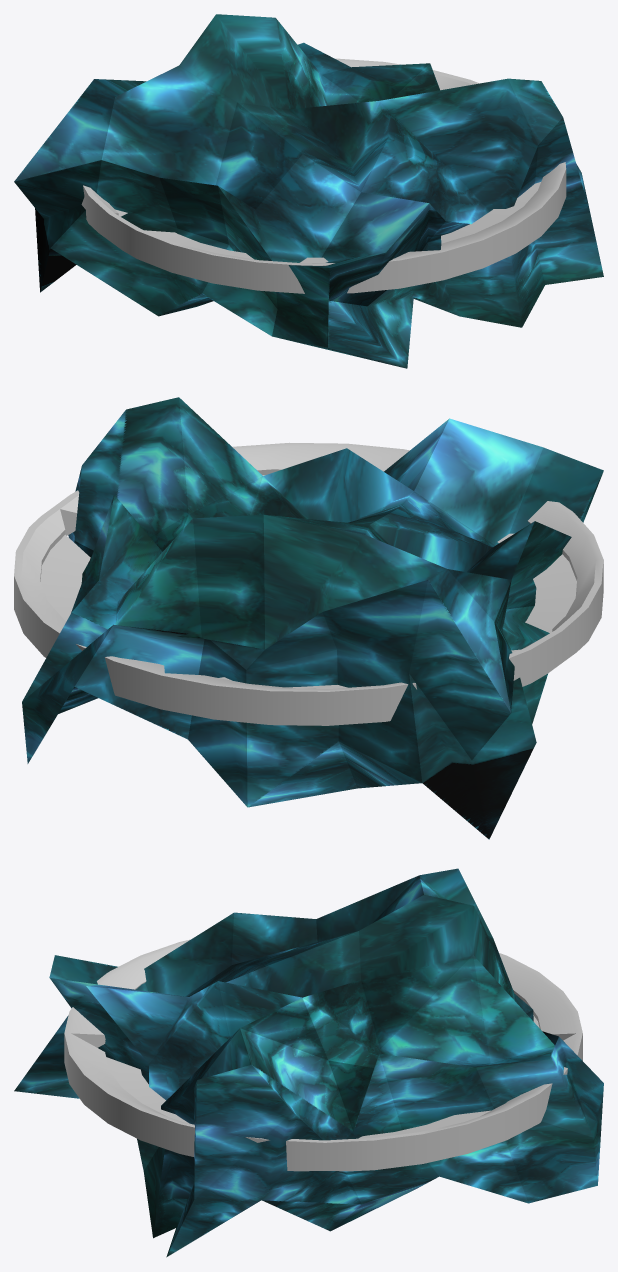
File: medaillon_P3.fbx
3 renders of one model, top to bottom at view 1: azimuth 30°, elevation 25°; view 2: azimuth 150°, elevation 25°; view 3: azimuth 270°, elevation 25°, orthographic. The views are drawn at different scales.
Visible parts, largest first — view 1: Cube.001, P1; view 2: Cube.001, P1; view 3: Cube.001, P1.
Boxes of the visible parts, x1=… form: Cube.001: x1=14, y1=14, x2=603, y2=368; P1: x1=81, y1=58, x2=566, y2=293; Cube.001: x1=22, y1=397, x2=603, y2=839; P1: x1=14, y1=442, x2=603, y2=725; Cube.001: x1=14, y1=868, x2=603, y2=1257; P1: x1=64, y1=939, x2=582, y2=1171.
Size of the model in its own units: 10.49 by 5.13 by 10.83.
